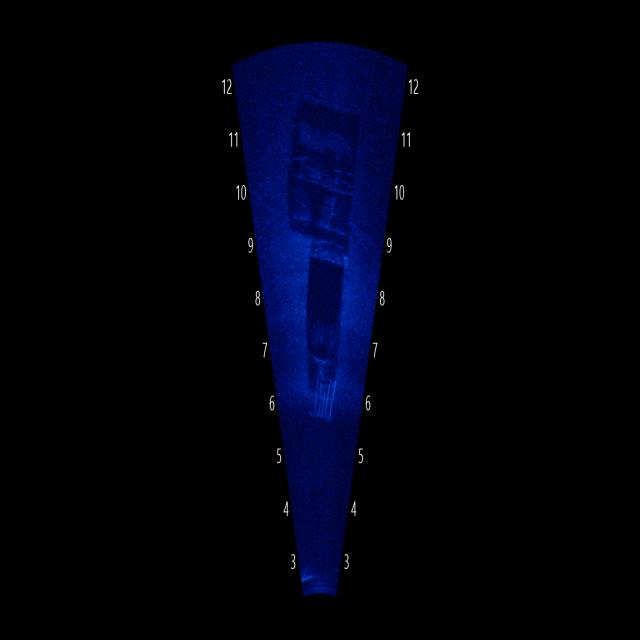square: (276, 72, 365, 260), (298, 275, 355, 439)
